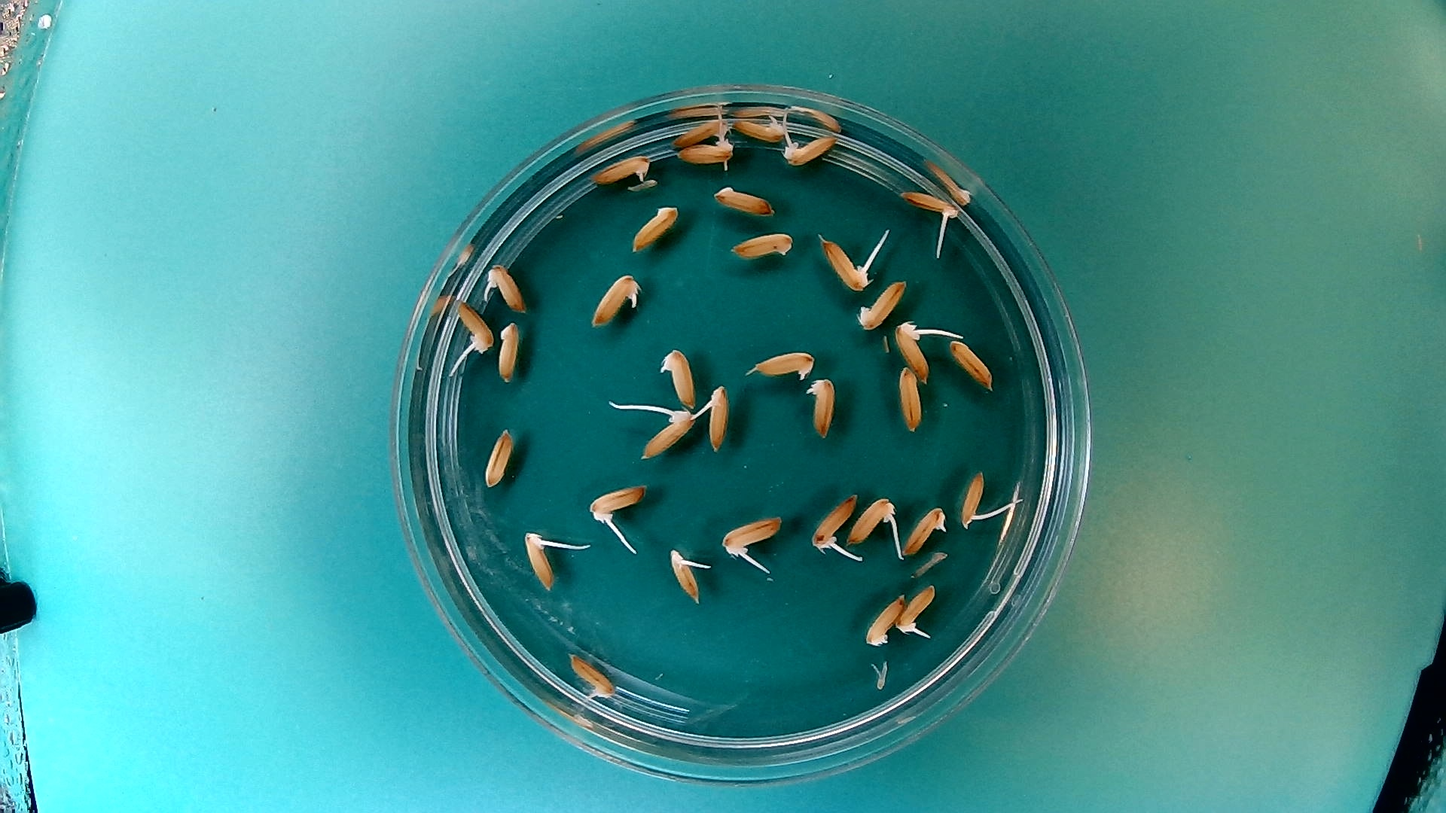no: (853, 277, 906, 332), (628, 201, 682, 254), (711, 179, 778, 217), (945, 343, 996, 392), (863, 592, 906, 650), (726, 227, 797, 262), (481, 424, 515, 488), (896, 364, 922, 437), (496, 318, 523, 383)
yes: (637, 401, 697, 462), (587, 269, 644, 330), (810, 488, 861, 555), (819, 234, 877, 292), (719, 510, 786, 560), (744, 343, 819, 382), (891, 317, 934, 384), (566, 650, 620, 702), (452, 296, 496, 359), (520, 525, 560, 594), (656, 343, 699, 405), (847, 495, 899, 545), (900, 503, 948, 557), (893, 580, 938, 637), (482, 260, 529, 314), (587, 151, 655, 187), (584, 486, 650, 523), (667, 545, 707, 604), (804, 375, 838, 440), (899, 187, 963, 220), (670, 116, 732, 149), (703, 380, 731, 452), (732, 111, 792, 142), (779, 136, 841, 166), (962, 469, 990, 528), (674, 139, 736, 164)
